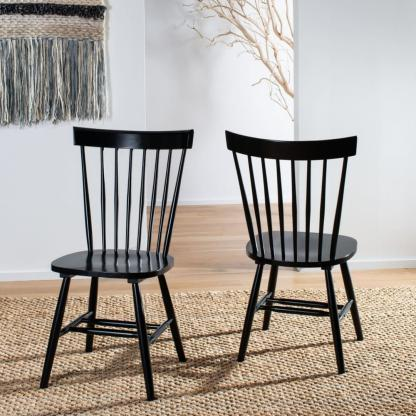chair: (44, 122, 201, 406), (217, 112, 367, 383)
